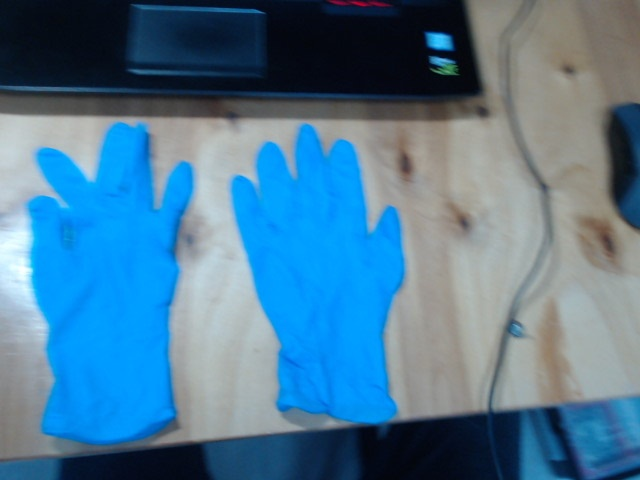medical_glove: (27, 122, 194, 444), (232, 124, 403, 424)
